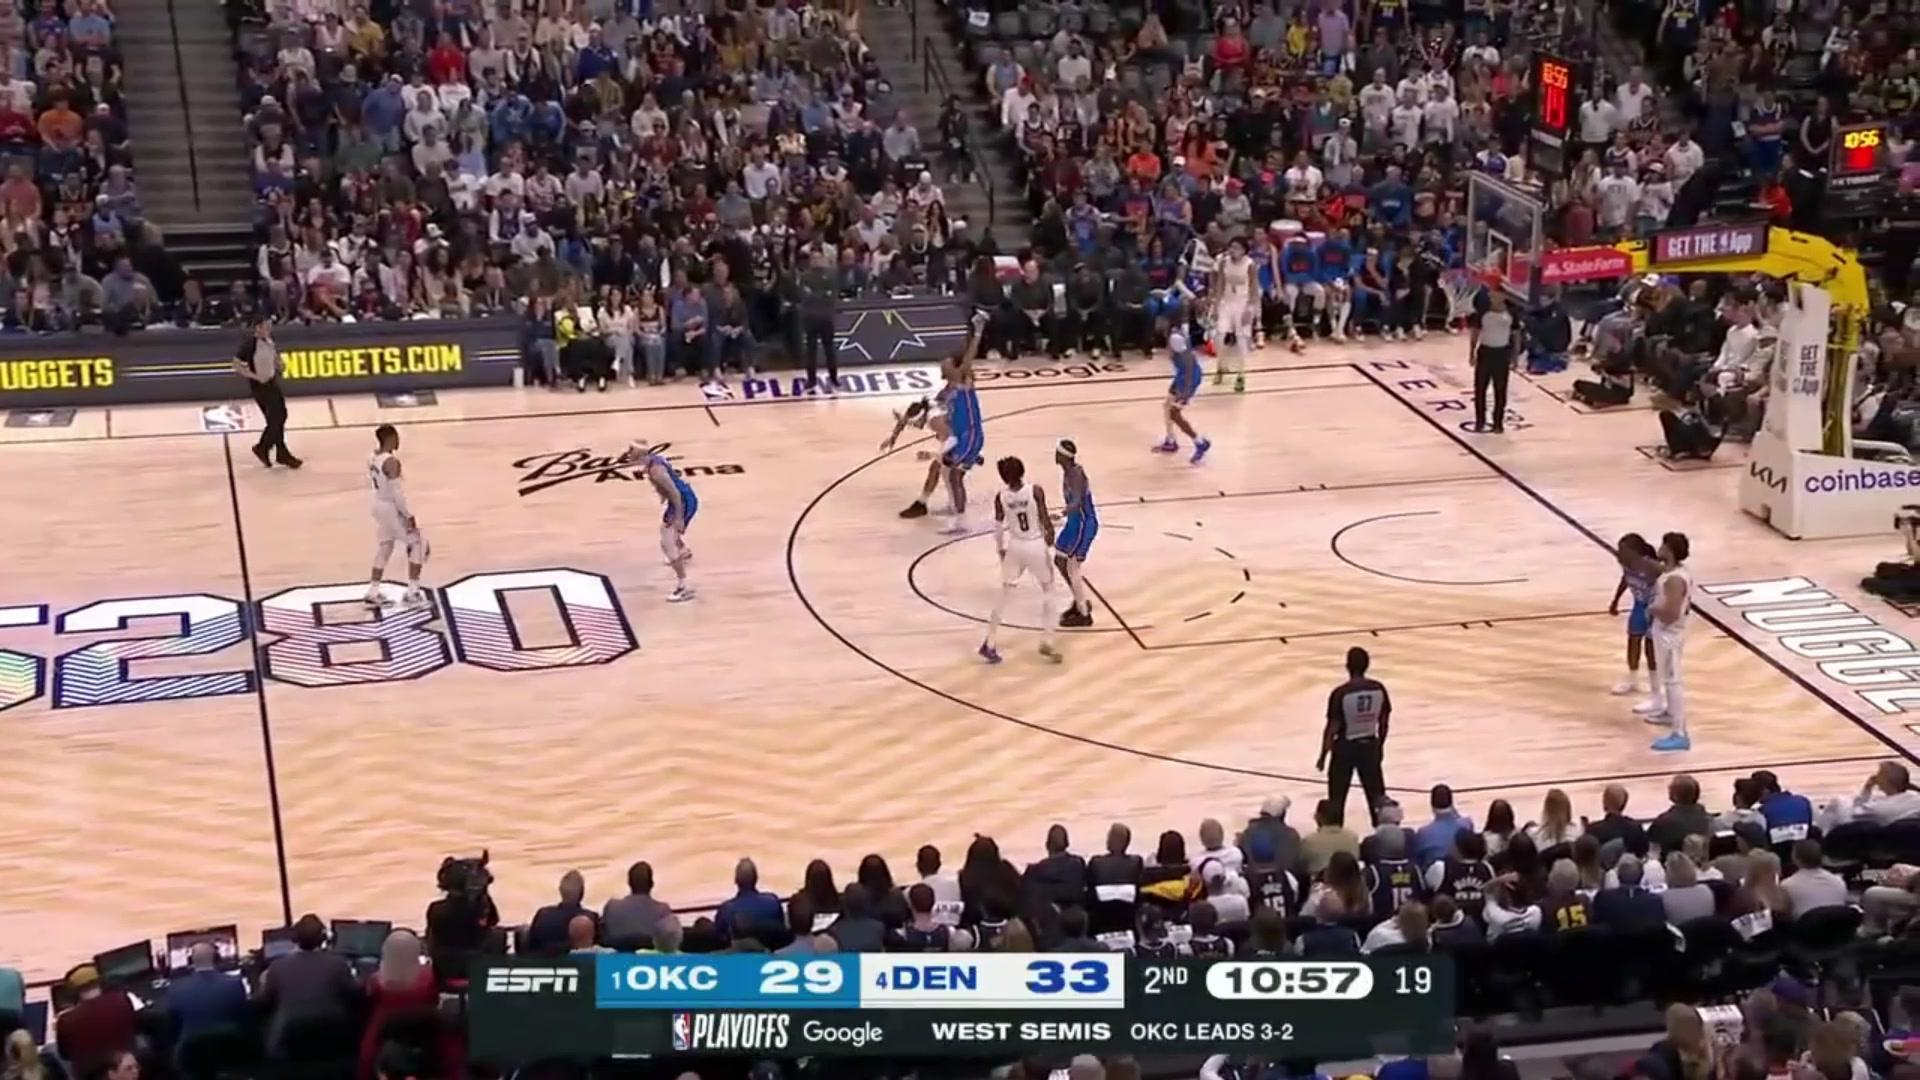foul: (882, 311, 1013, 524)
